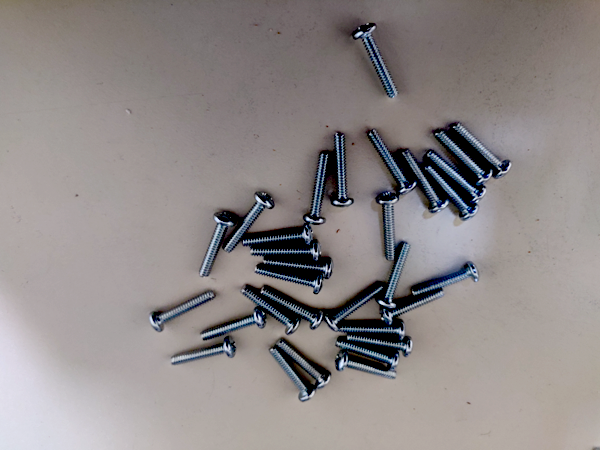longscrew: (356, 23, 404, 103), (367, 126, 415, 198), (225, 190, 277, 256), (400, 153, 453, 215), (424, 160, 477, 222), (428, 149, 484, 207), (435, 129, 491, 187), (455, 122, 511, 180), (243, 284, 305, 336), (409, 261, 484, 301), (144, 291, 217, 332), (325, 282, 390, 328), (261, 286, 328, 330), (195, 209, 235, 277), (270, 352, 320, 403), (282, 343, 332, 394), (202, 309, 269, 347), (170, 336, 238, 371), (300, 145, 328, 227), (330, 128, 357, 211), (384, 292, 445, 327), (254, 266, 326, 295), (378, 243, 411, 306), (241, 224, 319, 250), (248, 234, 326, 260), (261, 253, 338, 279), (338, 340, 400, 370), (352, 334, 414, 364), (338, 354, 401, 381), (381, 189, 403, 263), (336, 322, 414, 337)
